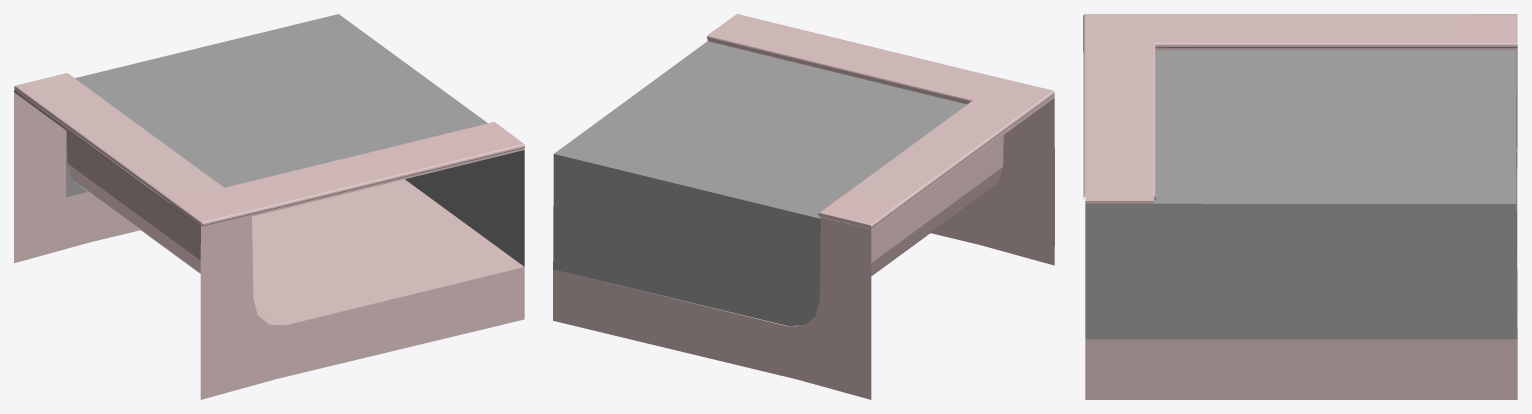
The model's file is tile 16.fbx.
The picture shows the model from 3 angles, left to right: view 1: azimuth 30°, elevation 25°; view 2: azimuth 150°, elevation 25°; view 3: azimuth 270°, elevation 25°; orthographic projection. The views are drawn at different scales.
Parts seen in each view (by area): view 1: Tile_16; view 2: Tile_16; view 3: Tile_16.
Part boxes in pixels (x1,y1,x2,y2): Tile_16: (14, 14, 524, 399); Tile_16: (553, 14, 1054, 399); Tile_16: (1083, 14, 1517, 399).
Bounding box in the file's own units: 401 × 210 × 402.
